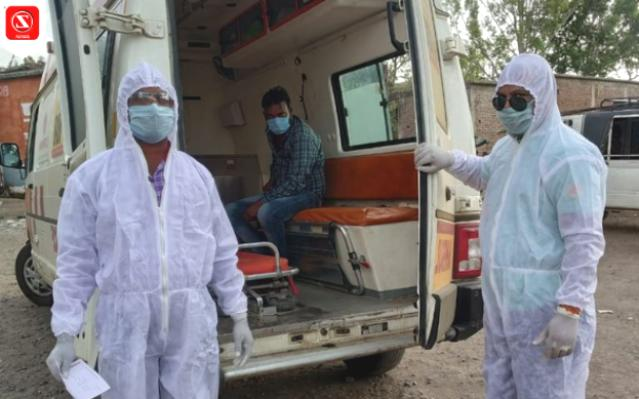ambulance: (15, 0, 483, 387)
